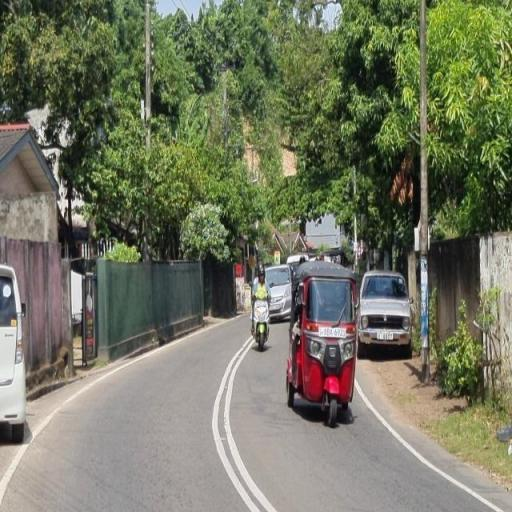double_white_line: (357, 377, 504, 512), (210, 333, 277, 512)
